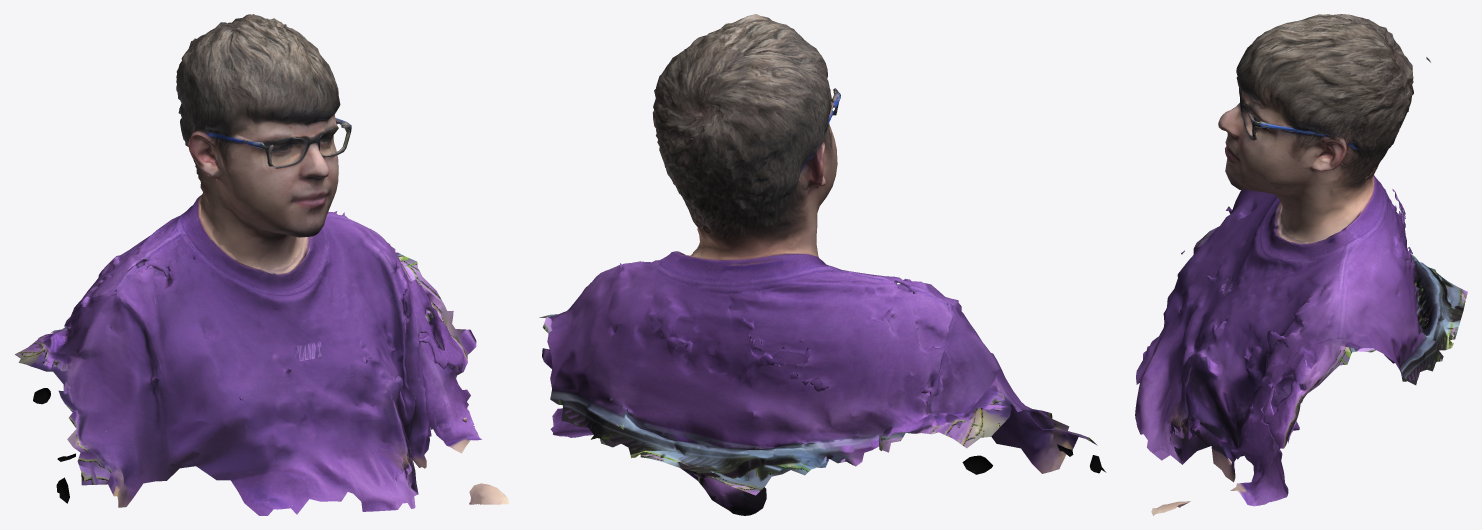
The model's file is 3DModel_LowPoly.obj.
3 renders of one model, left to right at view 1: azimuth 30°, elevation 25°; view 2: azimuth 150°, elevation 25°; view 3: azimuth 270°, elevation 25°, orthographic. The views are drawn at different scales.
Bounding box in the file's own units: 0.5221 × 0.4961 × 0.3496.
